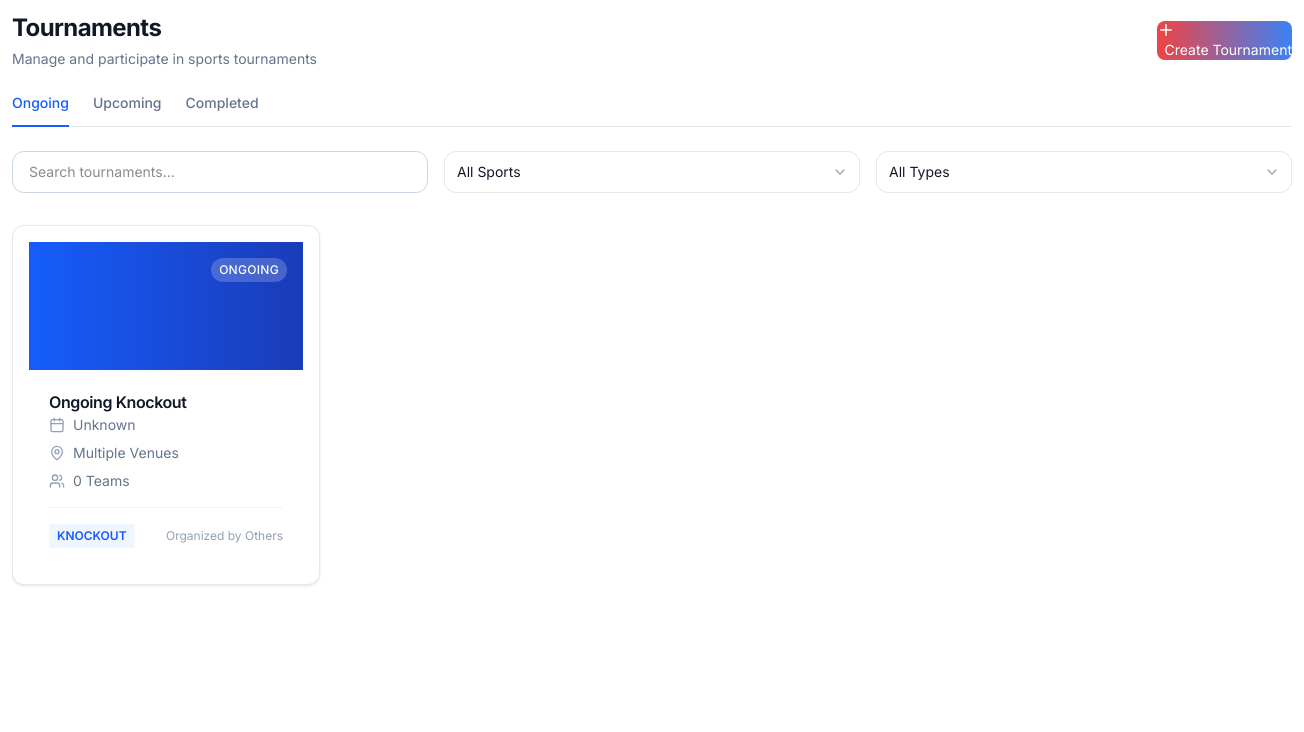
TournamentListFilter › filters by status (Tabs)
The width and height of the screenshot is (1304, 732).
Expected: the heading "Ongoing Knockout" is shown, [49,392,186,412]
Expected: the text "Upcoming League" is not shown
Note: Click Upcoming
Click the button "Upcoming": {"x": 127, "y": 110} [93,93,162,127]
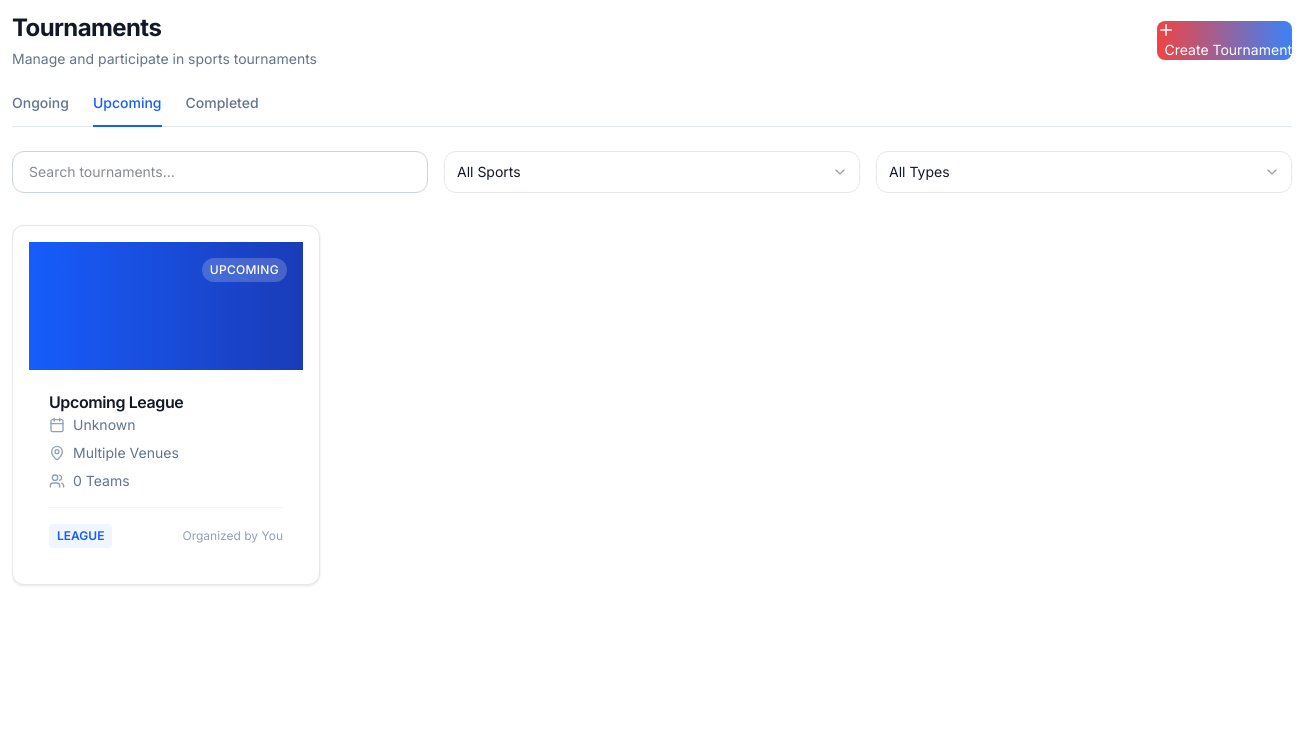
Expected: the heading "Upcoming League" is shown, [49,392,183,412]
Expected: the heading "Ongoing Knockout" is gone
Note: Click Completed
Click the button "Completed": {"x": 222, "y": 110} [186,93,259,127]
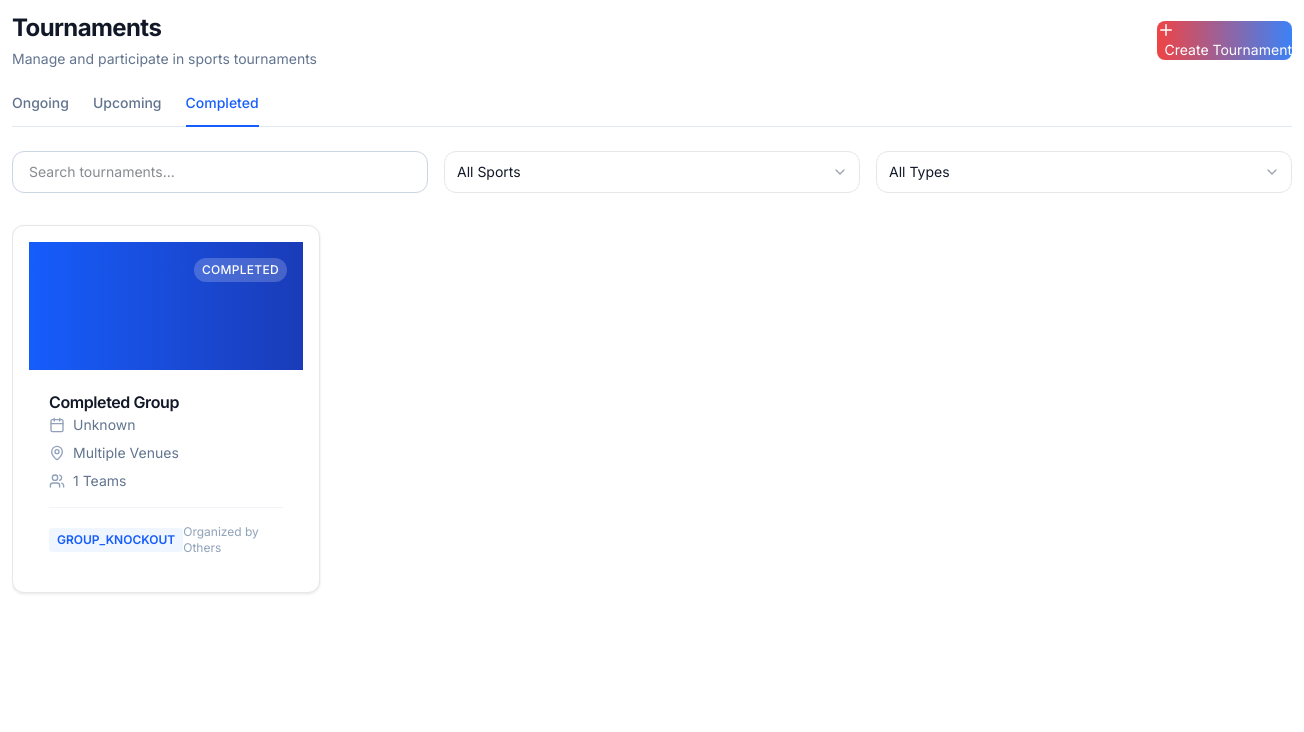
Expected: the heading "Completed Group" is shown, [49,392,179,412]
Expected: the heading "Upcoming League" is gone
